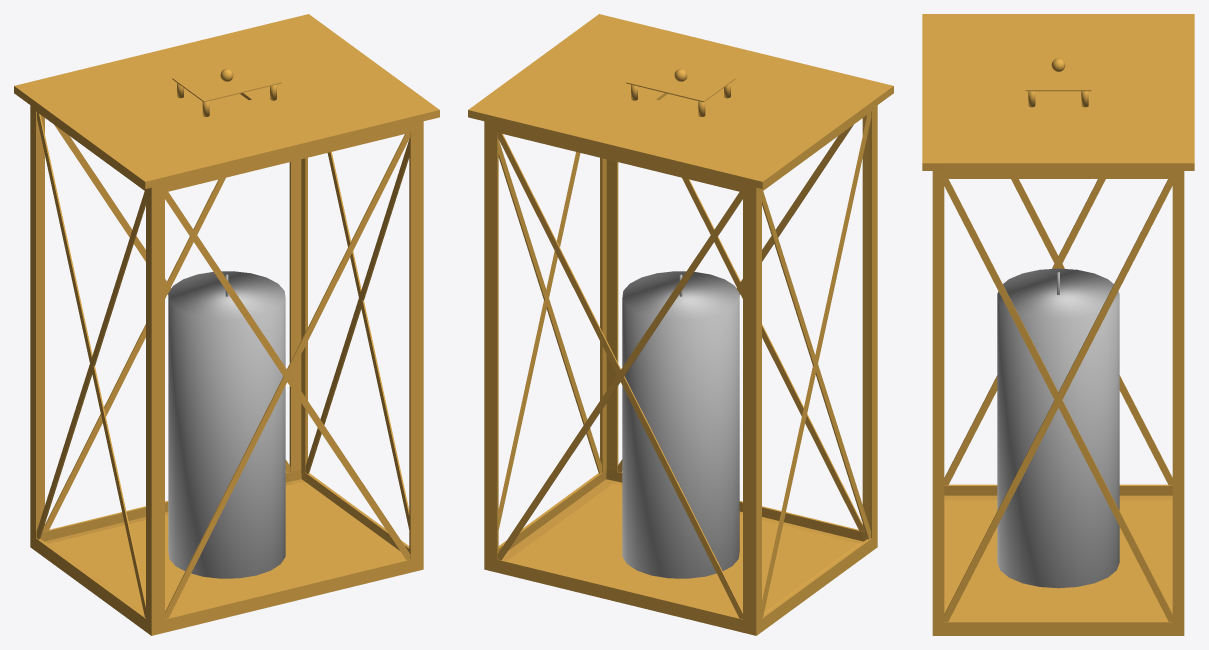
The model's file is LamparaX.fbx.
The picture shows the model from 3 angles, left to right: view 1: azimuth 30°, elevation 25°; view 2: azimuth 150°, elevation 25°; view 3: azimuth 270°, elevation 25°; orthographic projection. The views are drawn at different scales.
Visible parts, largest first — view 1: Lampara_X, Vela; view 2: Lampara_X, Vela; view 3: Lampara_X, Vela.
Part boxes in pixels (<box>): Lampara_X: <box>14,14,439,635</box>; Vela: <box>168,271,285,578</box>; Lampara_X: <box>468,14,893,635</box>; Vela: <box>622,271,739,578</box>; Lampara_X: <box>922,14,1194,635</box>; Vela: <box>997,268,1119,588</box>.
Bounding box in the file's own units: 26.54 × 42.11 × 20.46.
